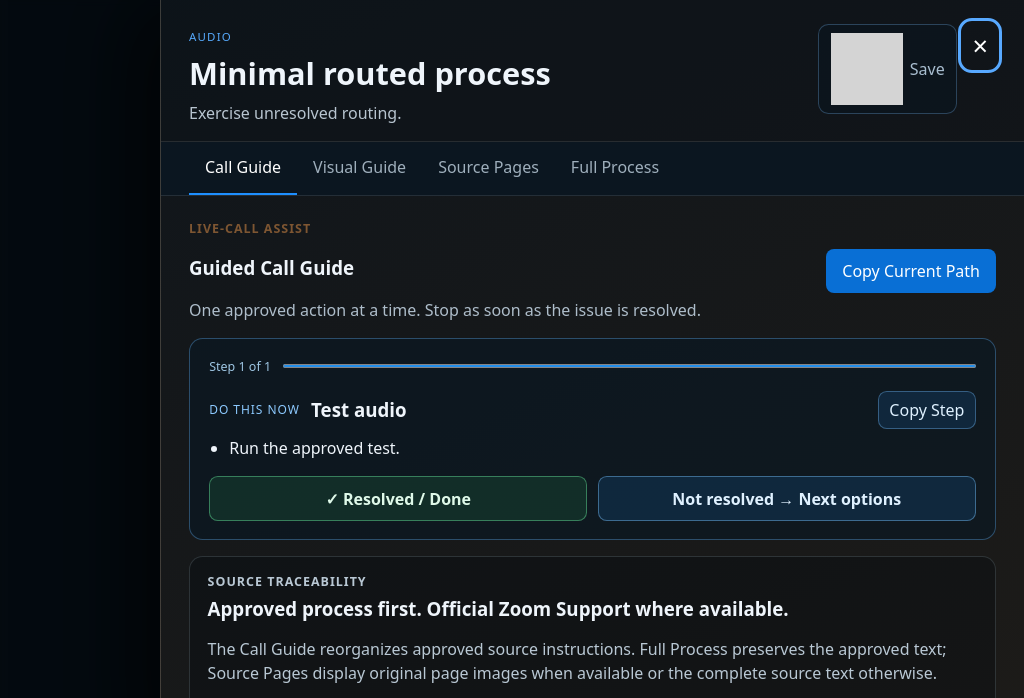
Scenario: after the last unresolved step, offers documented next routes instead of guessing another fix
This screenshot has width=1024, height=698.
Click the button "Not resolved → Next options": (787, 499) x1=598 y1=476 x2=976 y2=521
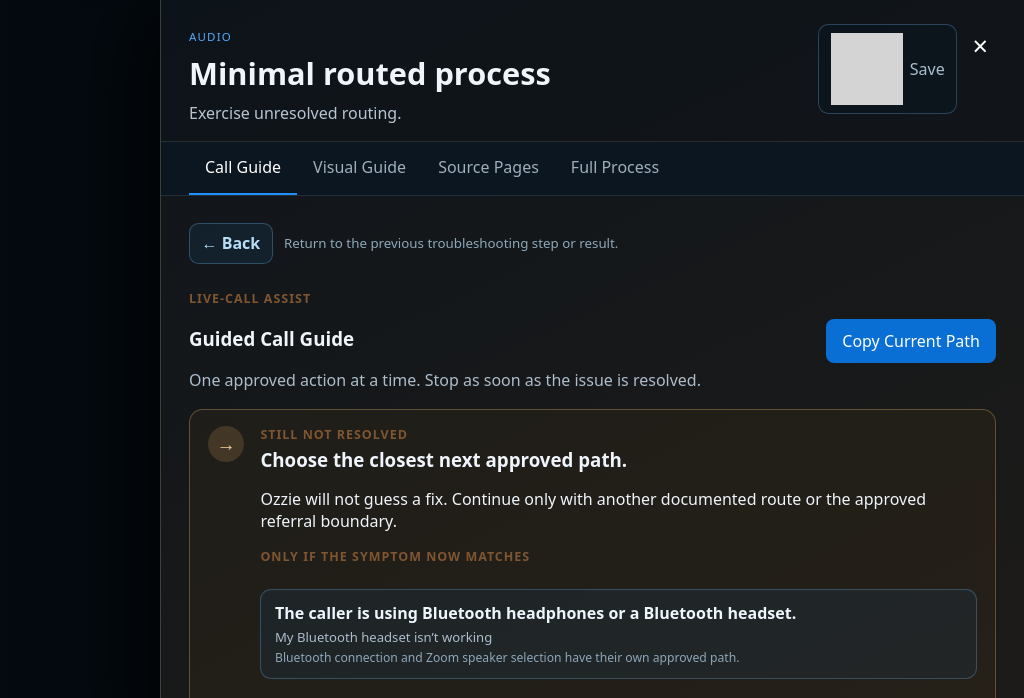
Expected: the heading "Choose the closest next approved path." is shown, x1=260 y1=446 x2=627 y2=472
Expected: the text "Ozzie will not guess a fix" is shown, x1=260 y1=488 x2=926 y2=532
